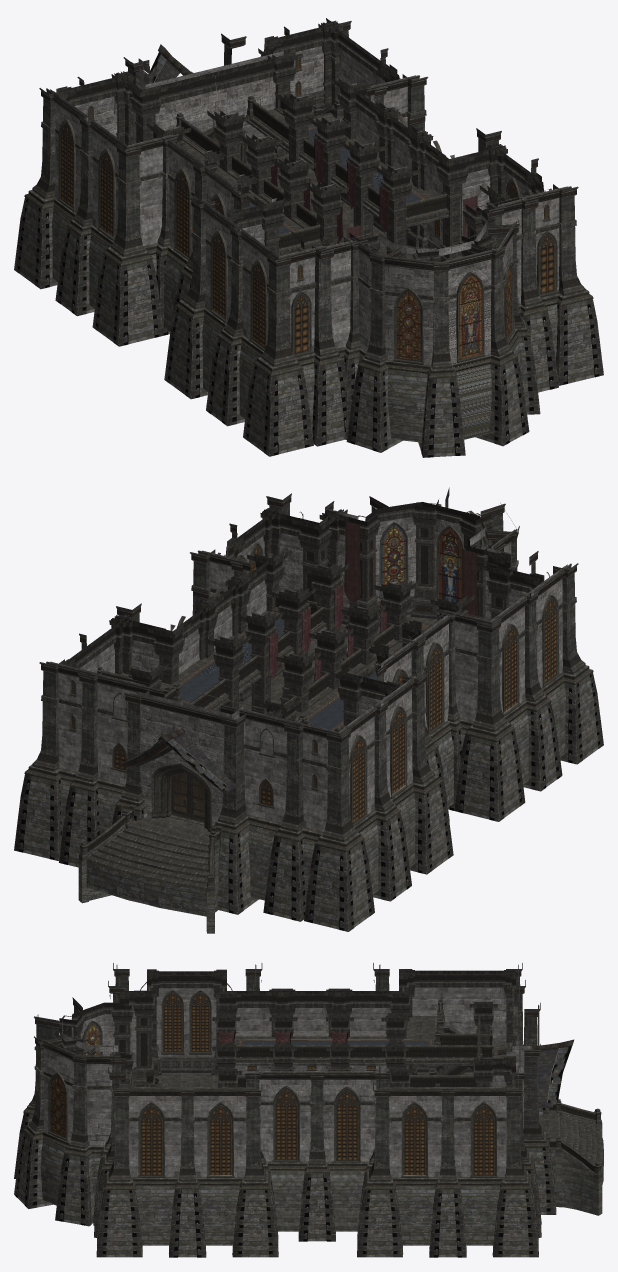
Rendered from eso_gu1_LargeChurch_InteriorCut-transformed.glb.
3 renders of one model, top to bottom at view 1: azimuth 30°, elevation 25°; view 2: azimuth 150°, elevation 25°; view 3: azimuth 270°, elevation 25°, orthographic. The views are drawn at different scales.
Parts seen in each view (by area): view 1: default; view 2: default; view 3: default.
Part boxes in pixels (left/top/right/bottom): default: left=14, top=18, right=603, bottom=457; default: left=14, top=487, right=603, bottom=933; default: left=14, top=963, right=603, bottom=1257.
Size of the model in its own units: 38.65 by 20.54 by 68.04.
Materials: 19 (19 with a texture image).
